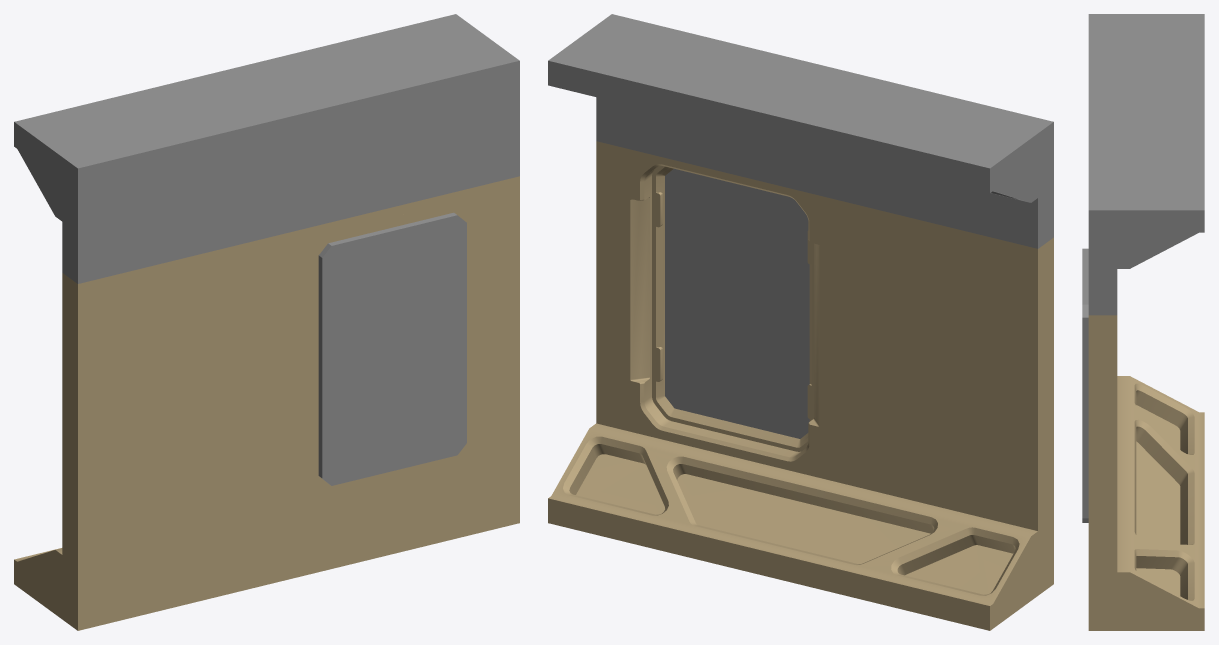
Rendered from door2+door_low.FBX.
3 renders of one model, left to right at view 1: azimuth 30°, elevation 25°; view 2: azimuth 150°, elevation 25°; view 3: azimuth 270°, elevation 25°, orthographic. The views are drawn at different scales.
Visible parts, largest first — view 1: wall_low, floor_low, door2_low, dool_low; view 2: wall_low, floor_low, door2_low, dool_low; view 3: wall_low, floor_low, door2_low.
Part boxes in pixels (x1,y1,x2,y2): wall_low: (14, 176, 519, 630); floor_low: (14, 14, 519, 283); door2_low: (318, 212, 466, 485); dool_low: (309, 202, 473, 493); wall_low: (548, 141, 1053, 630); floor_low: (548, 14, 1053, 248); door2_low: (665, 168, 809, 438); dool_low: (652, 166, 813, 451); wall_low: (1088, 315, 1204, 630); floor_low: (1088, 14, 1204, 315); door2_low: (1082, 248, 1088, 522).
Size of the model in its own units: 400 by 400 by 106.
